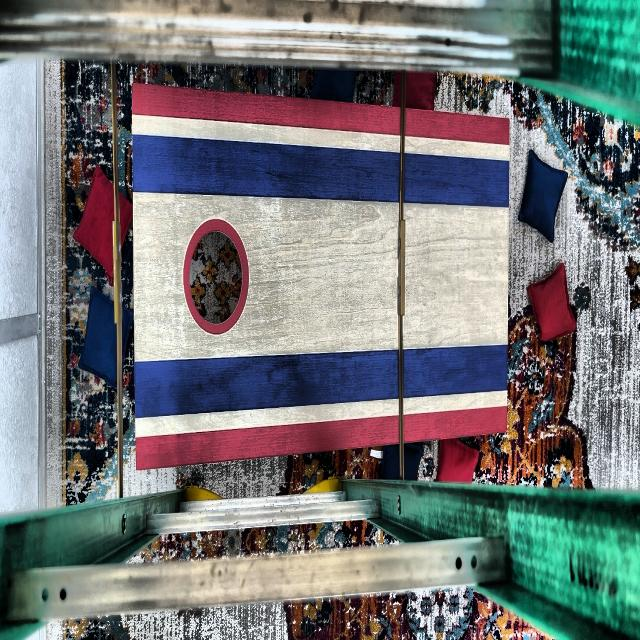blue-bean-bag: (80, 286, 133, 385), (518, 147, 568, 244), (308, 67, 359, 101), (379, 442, 424, 480)
board: (136, 119, 506, 432)
hole: (183, 218, 250, 335)
red-bean-bag: (72, 164, 133, 276), (526, 262, 578, 342), (434, 439, 480, 482), (392, 72, 436, 111)
